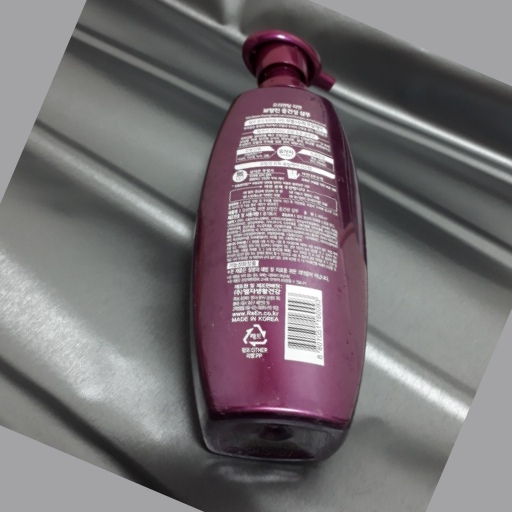Plastic_3: (183, 29, 372, 464)
